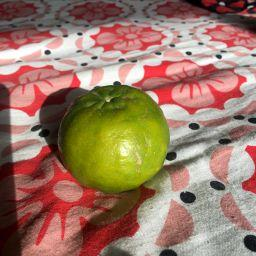orange: (57, 84, 171, 195)
